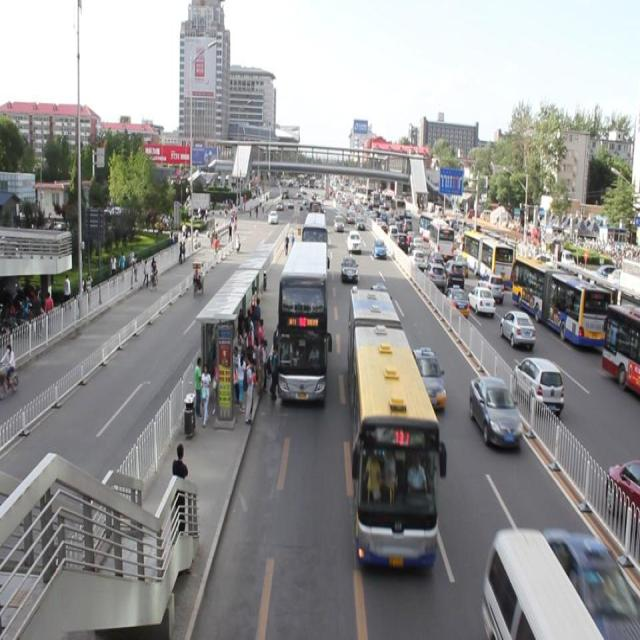car: (542, 526, 640, 632), (469, 375, 521, 449), (410, 348, 446, 411), (340, 256, 357, 280), (372, 236, 385, 258), (347, 229, 359, 251), (332, 215, 342, 231), (354, 216, 365, 230), (346, 210, 354, 224)
truck: (481, 525, 601, 640)
van: (347, 287, 443, 570), (277, 236, 328, 398), (301, 210, 327, 287)
